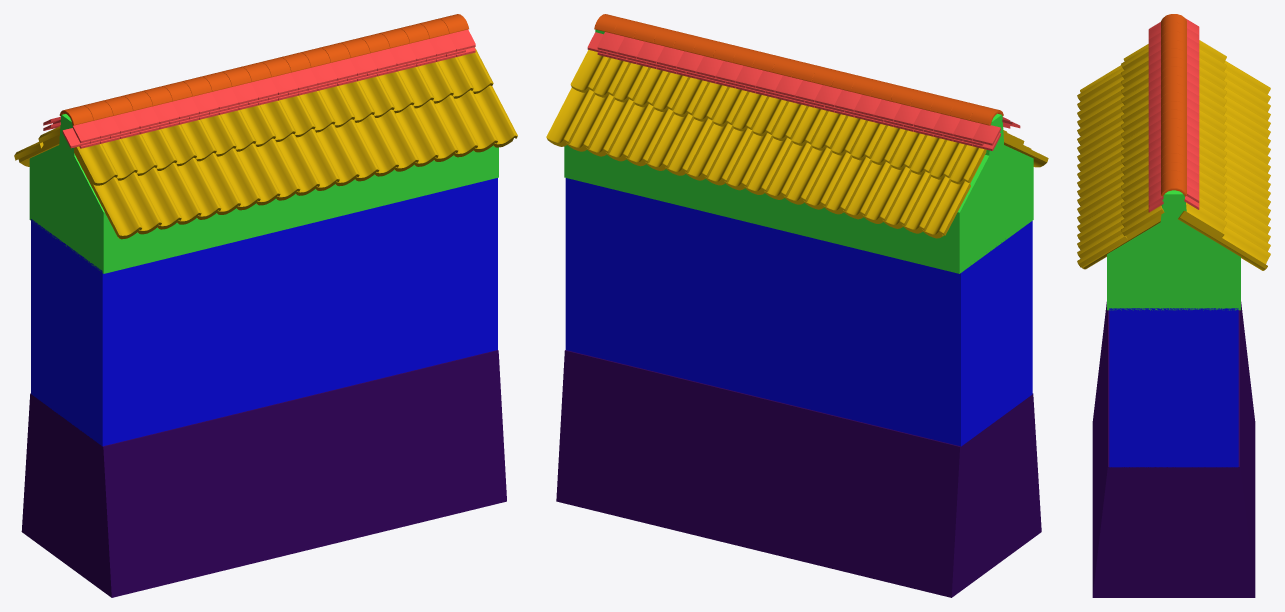
Rendered from Wall.FBX.
3 renders of one model, left to right at view 1: azimuth 30°, elevation 25°; view 2: azimuth 150°, elevation 25°; view 3: azimuth 270°, elevation 25°, orthographic. The views are drawn at different scales.
Visible parts, largest first — view 1: WMidLo, WStonesLo002, WWaveTilesFrLo, WTopLo, WSlopeTilesFrLo, ArcTilesLo, WWaveTilesBaLo; view 2: WMidLo, WStonesLo002, WWaveTilesBaLo, WTopLo, WSlopeTilesBaLo, ArcTilesLo; view 3: WStonesLo002, WMidLo, WWaveTilesBaLo, WWaveTilesFrLo, WTopLo, ArcTilesLo, WSlopeTilesFrLo, WSlopeTilesBaLo.
Part boxes in pixels (box(x1,y1,x2,y2)): WMidLo: box(31, 178, 497, 446); WStonesLo002: box(21, 350, 506, 597); WWaveTilesFrLo: box(74, 48, 517, 239); WTopLo: box(29, 114, 498, 273); WSlopeTilesFrLo: box(62, 29, 475, 148); ArcTilesLo: box(59, 14, 468, 125); WWaveTilesBaLo: box(14, 126, 60, 166); WMidLo: box(565, 178, 1032, 446); WStonesLo002: box(556, 350, 1041, 597); WWaveTilesBaLo: box(546, 50, 986, 238); WTopLo: box(564, 29, 1033, 273); WSlopeTilesBaLo: box(587, 32, 1000, 150); ArcTilesLo: box(594, 14, 1003, 125); WStonesLo002: box(1092, 302, 1255, 597); WMidLo: box(1109, 308, 1238, 467); WWaveTilesBaLo: box(1178, 40, 1270, 270); WWaveTilesFrLo: box(1077, 44, 1164, 269); WTopLo: box(1107, 190, 1240, 310); ArcTilesLo: box(1161, 14, 1186, 196); WSlopeTilesFrLo: box(1148, 22, 1163, 212); WSlopeTilesBaLo: box(1184, 18, 1199, 209).
Bounding box in the file's own units: 81.33 × 86.23 × 36.98.
